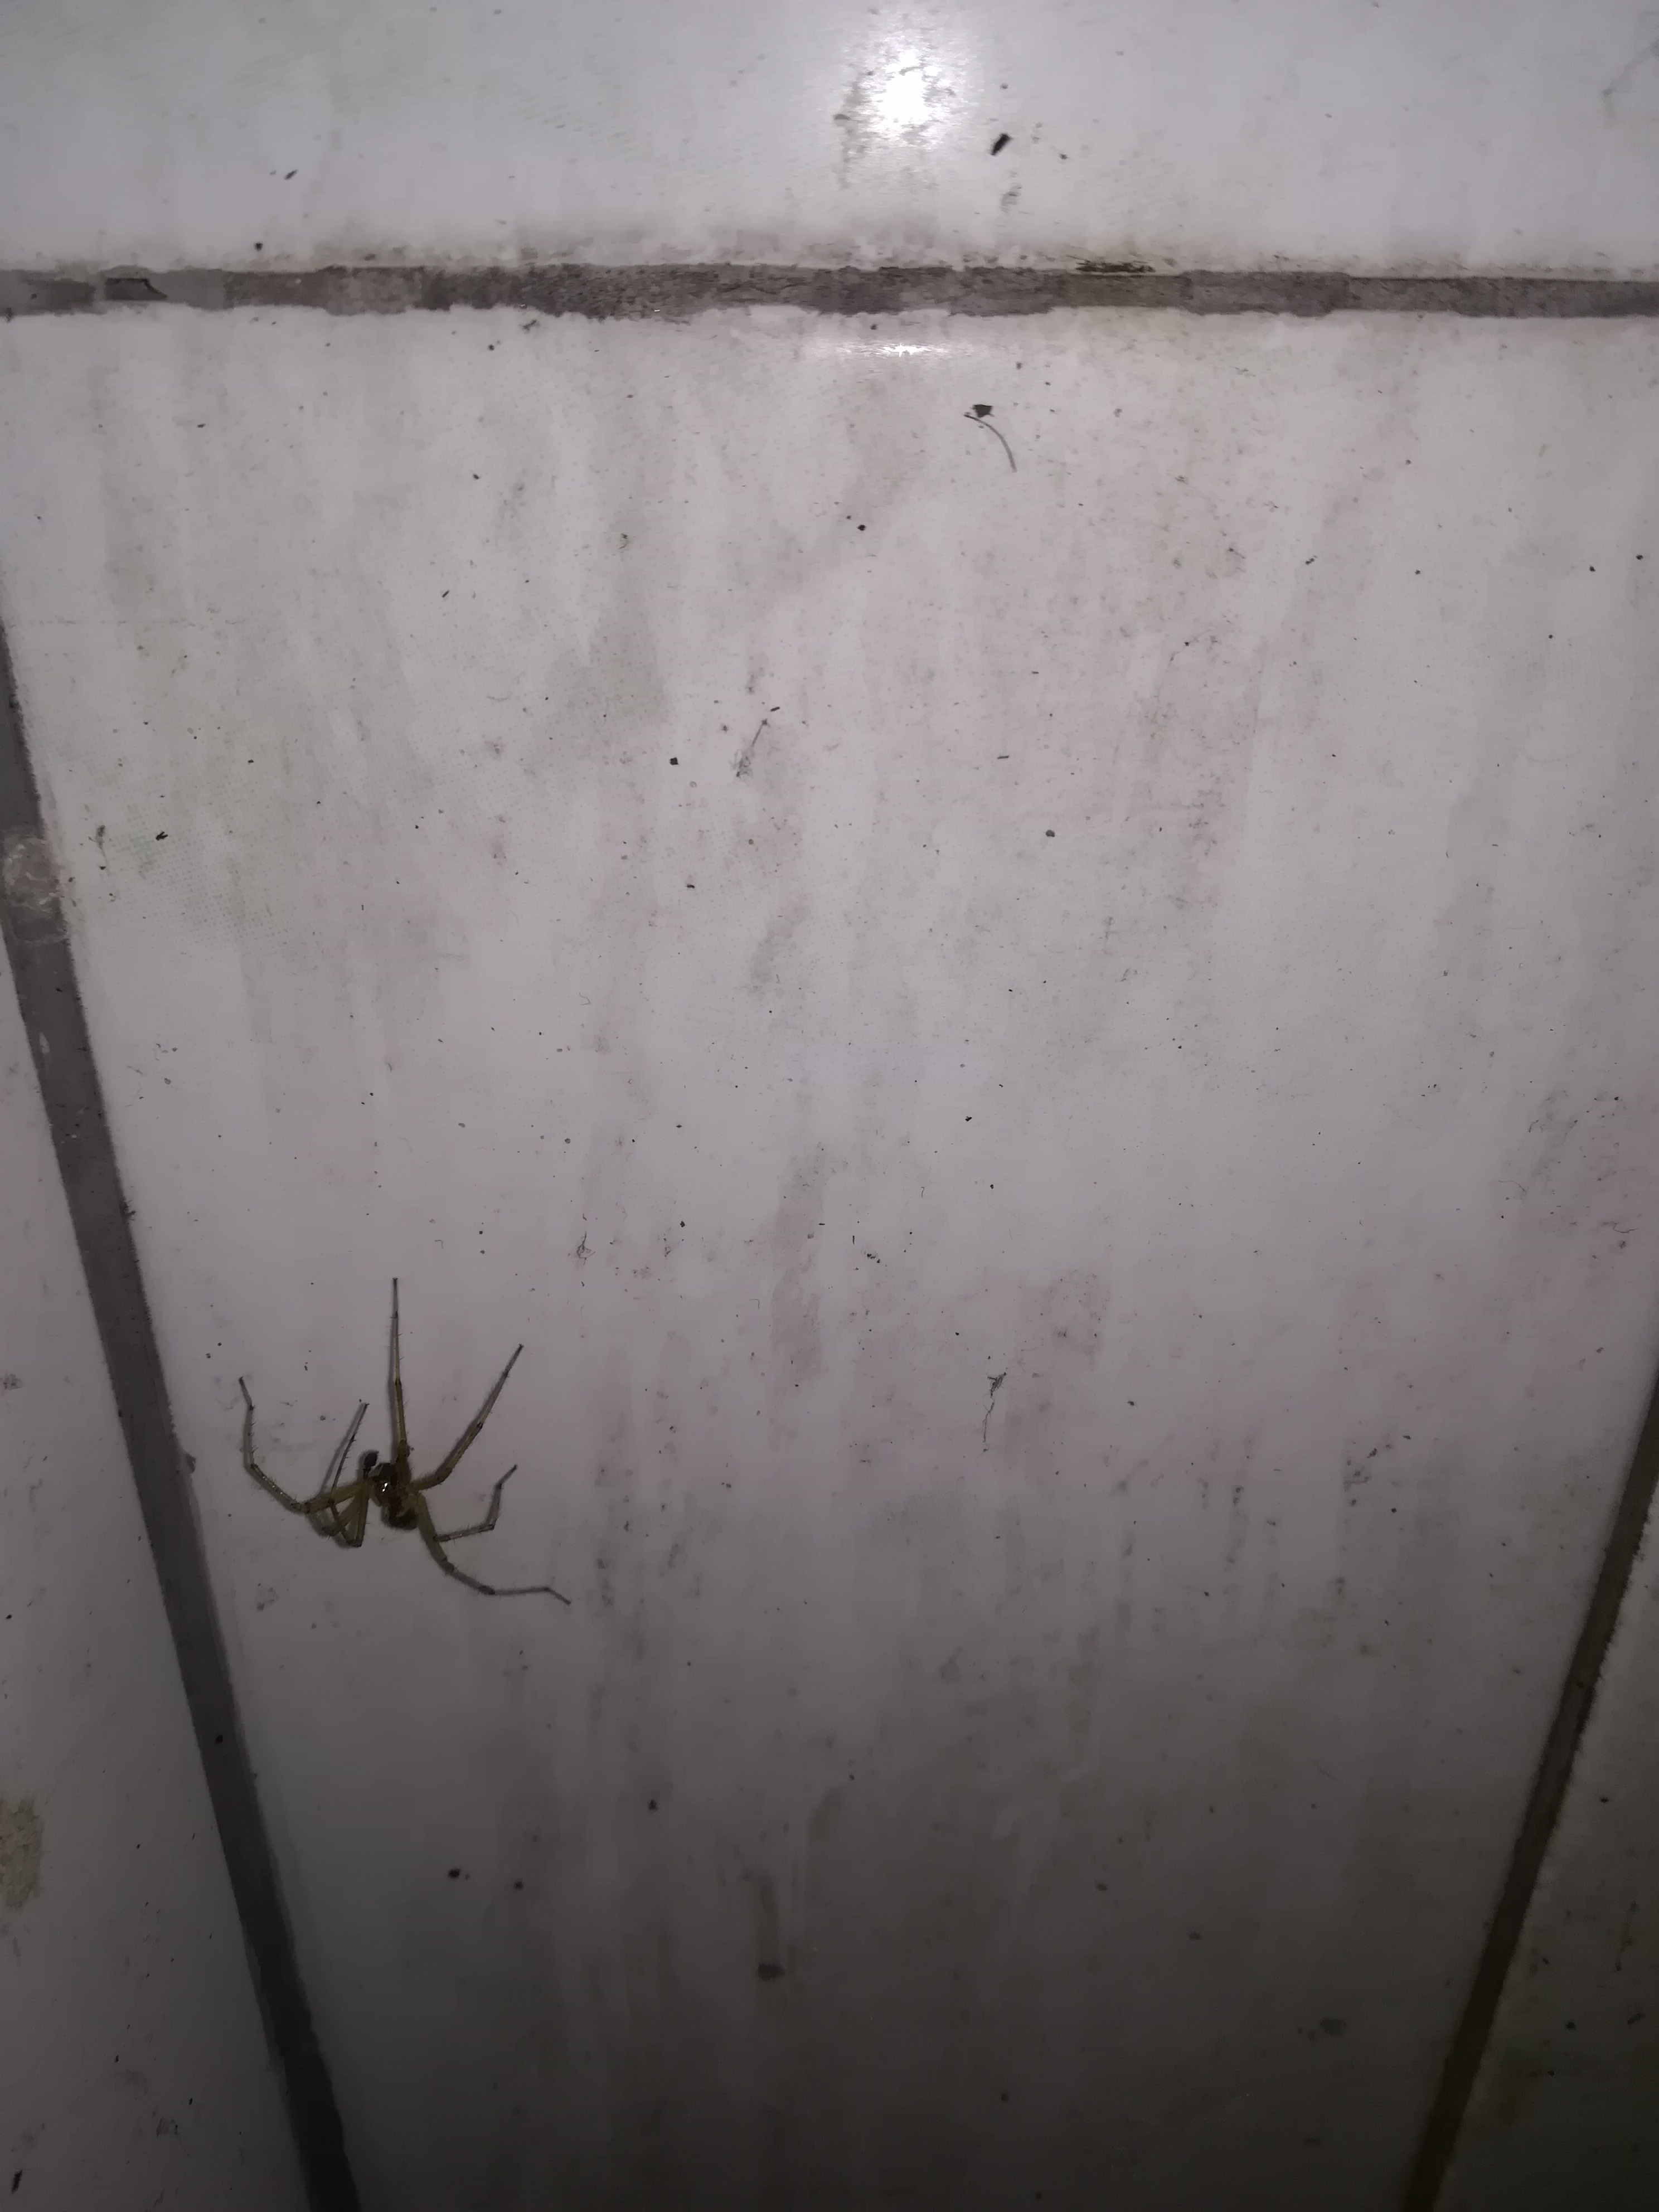spider: (195, 1226, 627, 1649)
